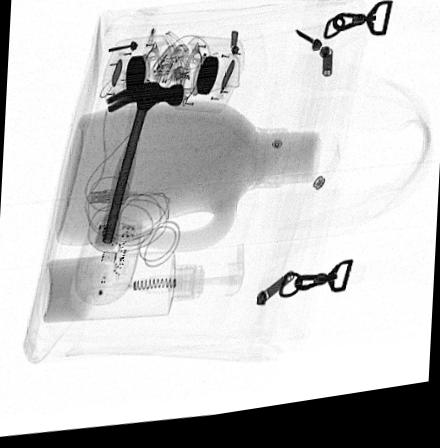Hammer: (94, 86, 184, 256)
